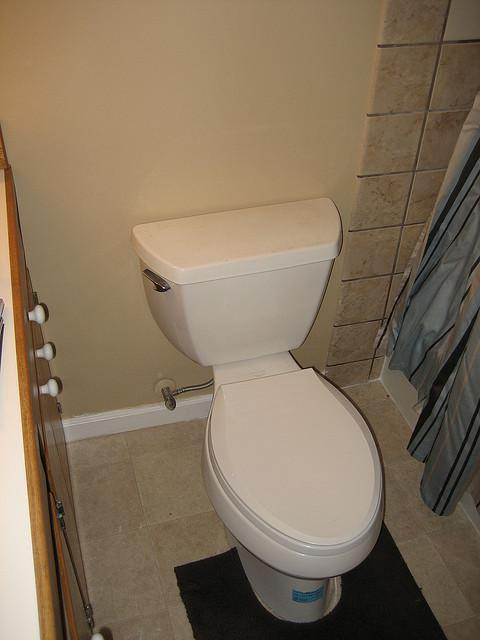Ducha: (396, 9, 477, 542)
Sanitario: (123, 196, 402, 625)
